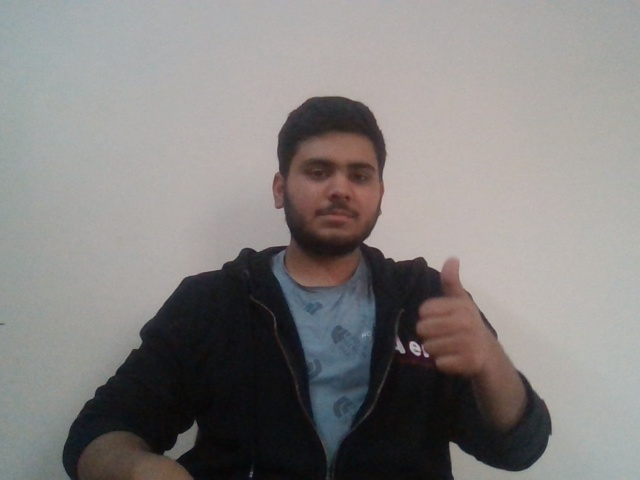Yes: (405, 255, 500, 374)
